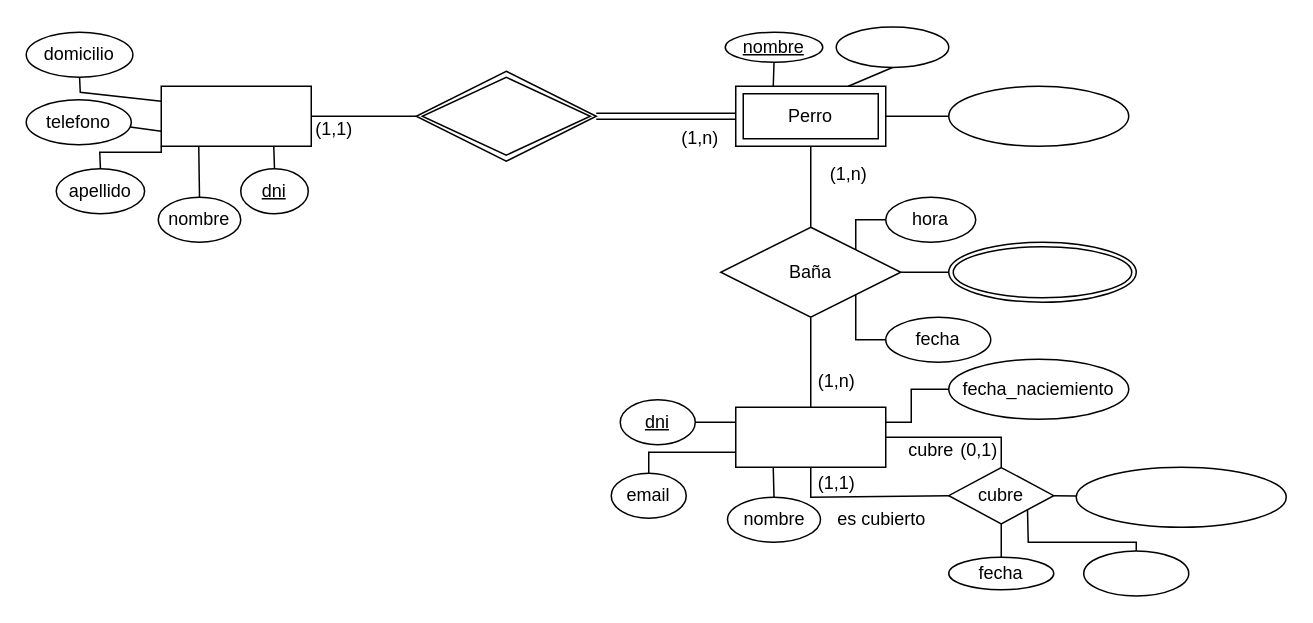
Image size: 1313x623. Some labels were removed from this diagram. The shapes that lost their labels are listed below. From the top down, each one's centre as x and y in pixels, then its label:
point (892, 47): descripcion
point (235, 115): Cliente
point (505, 115): pertenece
point (1038, 115): año_de_nacimiento
point (1041, 271): producto_utliizado
point (810, 436): Empleado
point (1180, 496): empleado_cubierto
point (1135, 572): motivo
